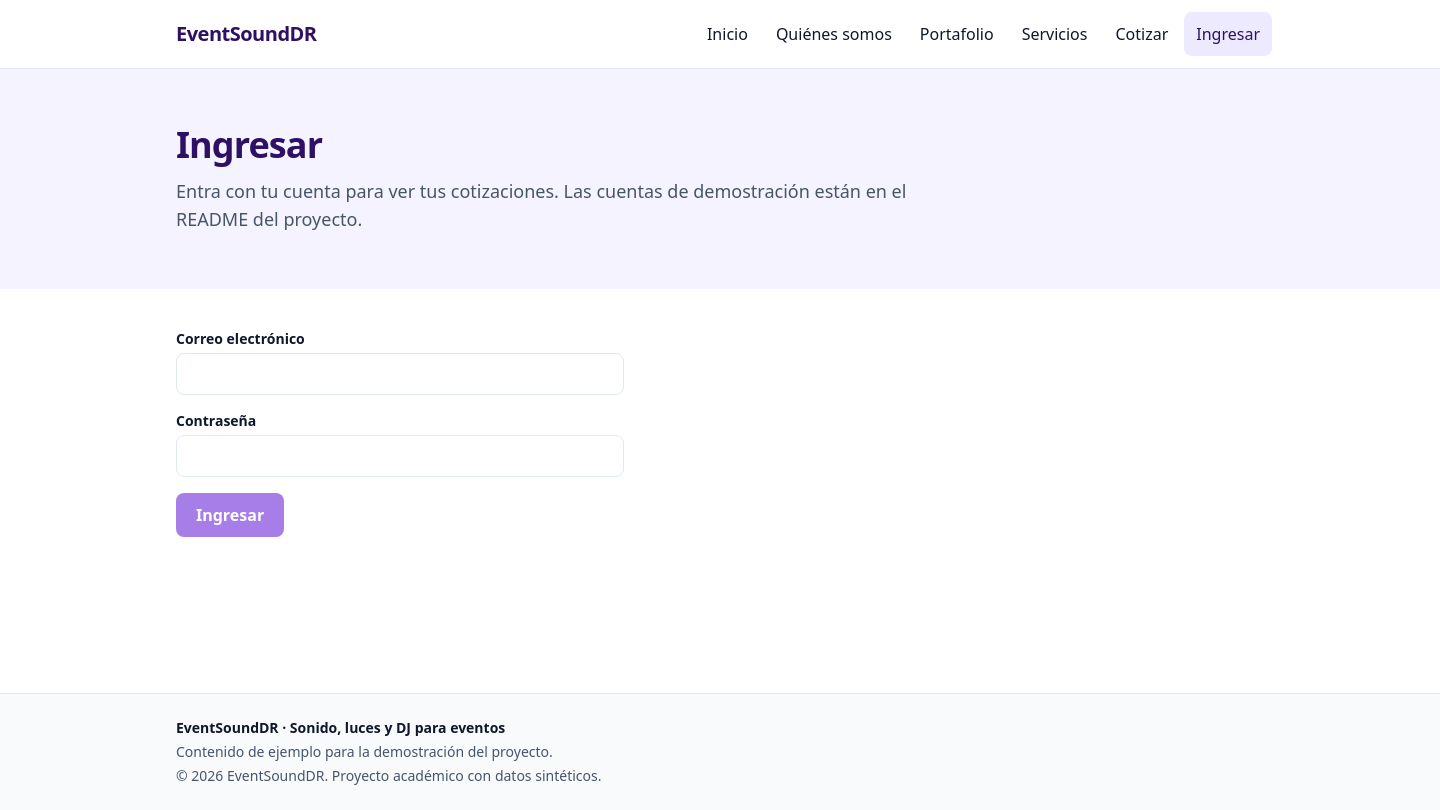
Test case: sign in › shows one generic error for a wrong password and keeps the visitor signed out
The image size is (1440, 810).
Type "cliente@eventsounddr.example" into the field labelled "Correo electrónico". click: x=400, y=374
box: [176, 353, 624, 395]
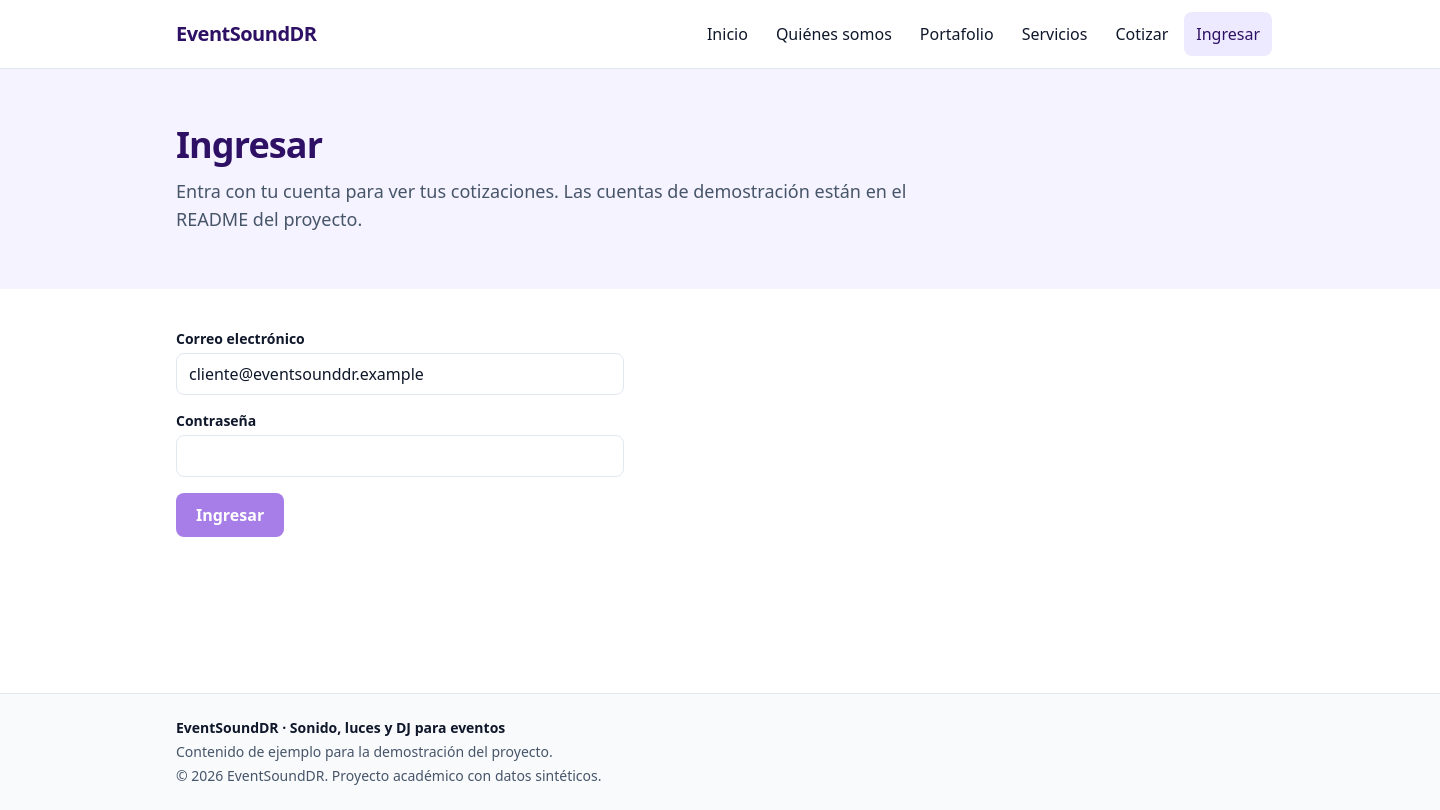
Type "wrong" into the password field labelled "Contraseña". click: x=400, y=456
box: [176, 435, 624, 477]
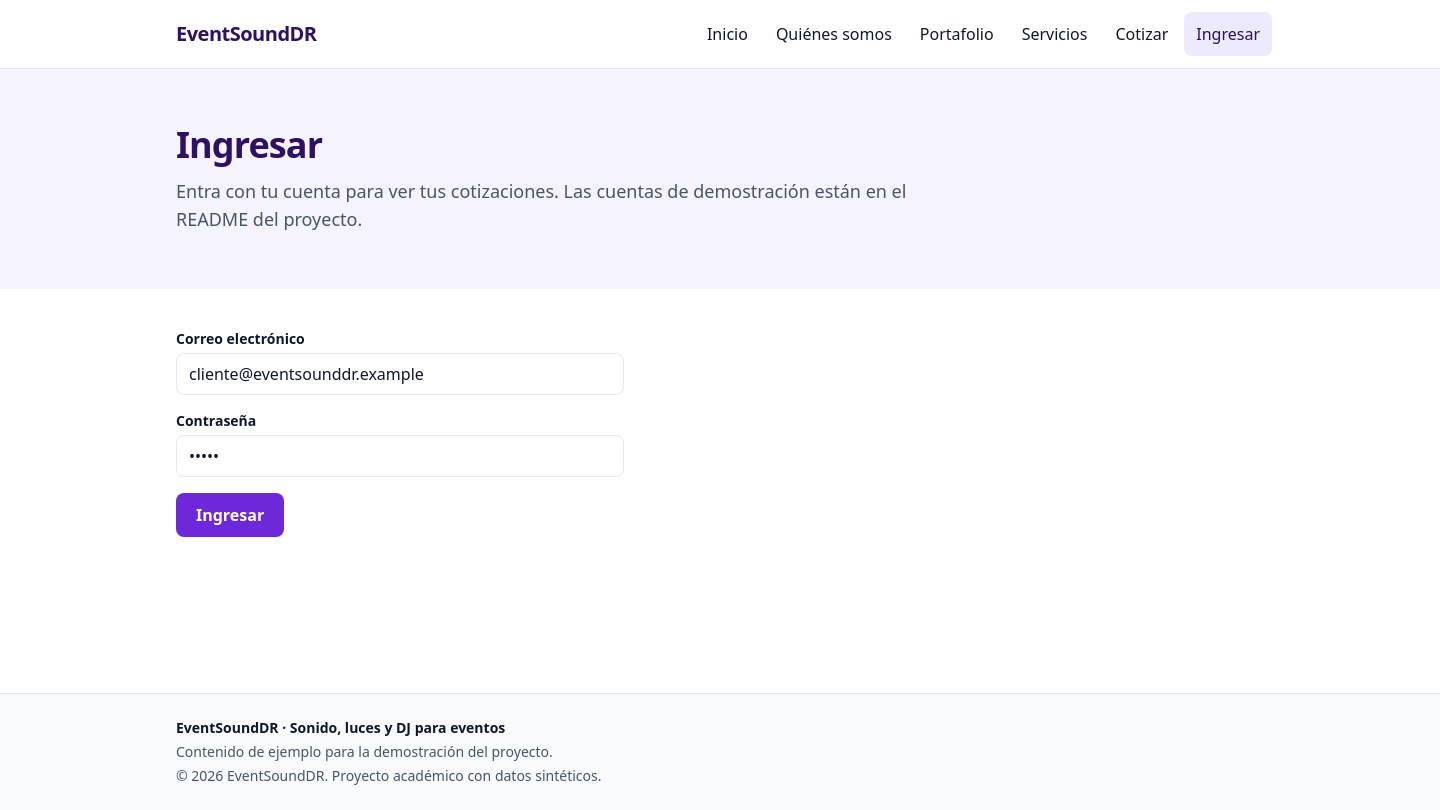
Click the button "Ingresar". click: x=230, y=515
box: [176, 493, 284, 537]
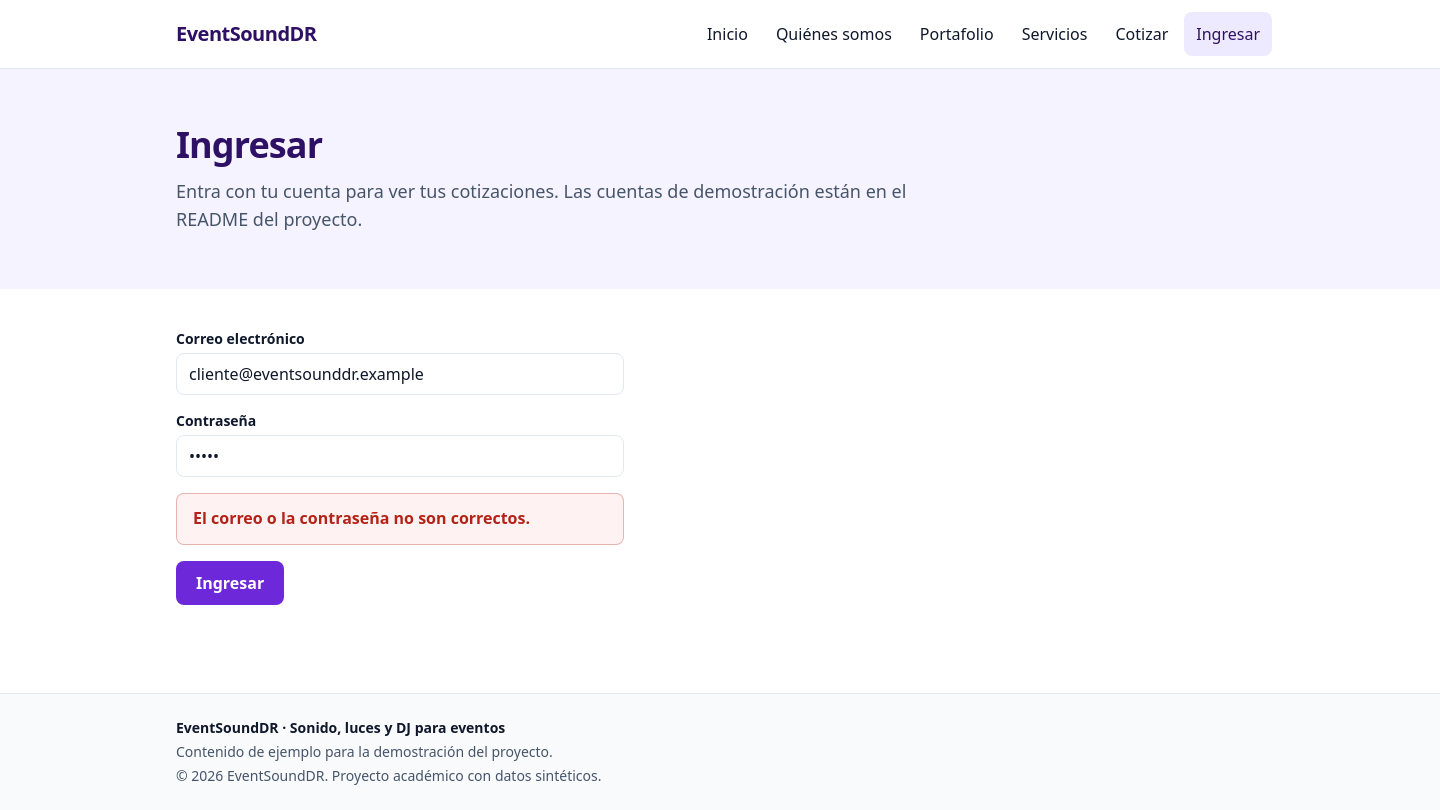
Now the message reads "El correo o la contraseña no son correctos.", box [193, 507, 530, 529]
